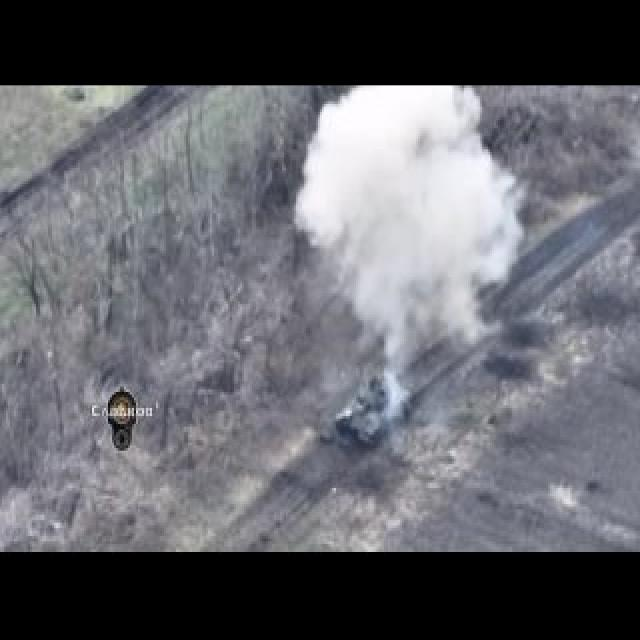tank: (336, 376, 410, 452)
